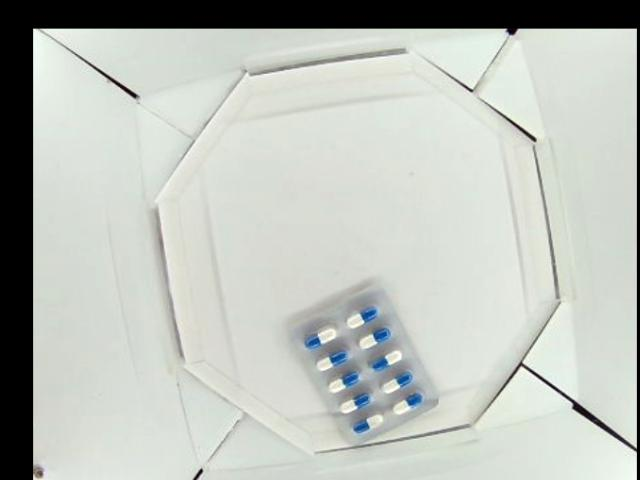Medicine: (287, 285, 440, 449)
